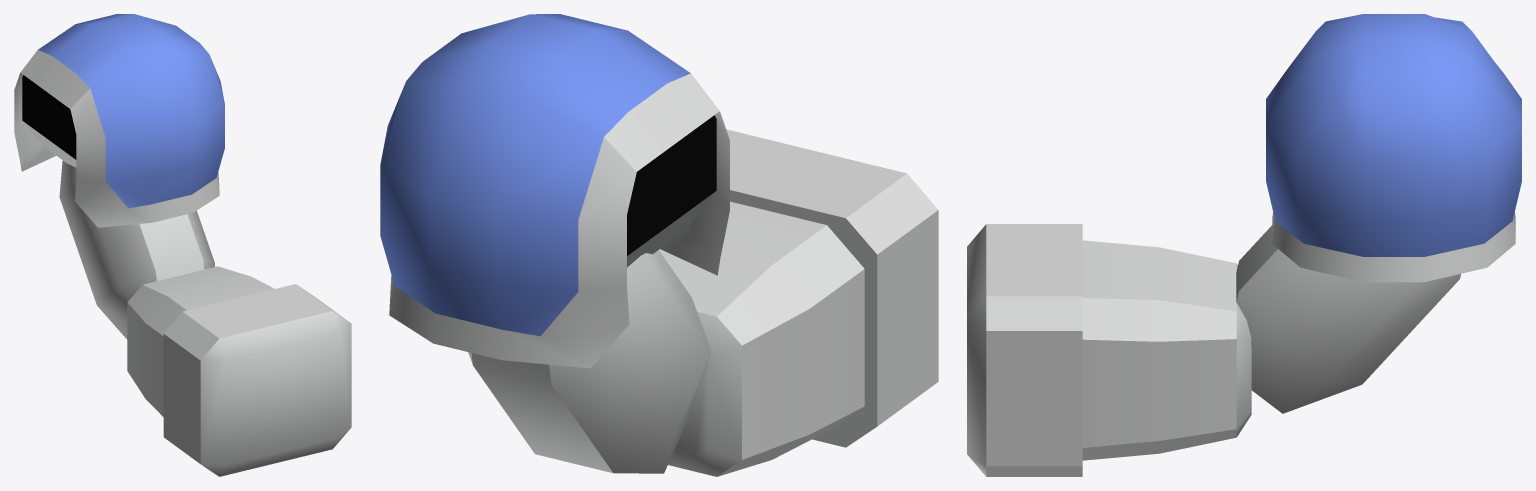
Rendered from Arm_L.fbx.
3 renders of one model, left to right at view 1: azimuth 30°, elevation 25°; view 2: azimuth 150°, elevation 25°; view 3: azimuth 270°, elevation 25°, orthographic. The views are drawn at different scales.
Parts seen in each view (by area): view 1: Arm_L; view 2: Arm_L; view 3: Arm_L.
Part boxes in pixels (left/top/right/bottom): Arm_L: left=14, top=14, right=351, bottom=476; Arm_L: left=380, top=14, right=938, bottom=476; Arm_L: left=967, top=14, right=1521, bottom=476.
Size of the model in its own units: 0.2231 by 0.4147 by 0.4994.
